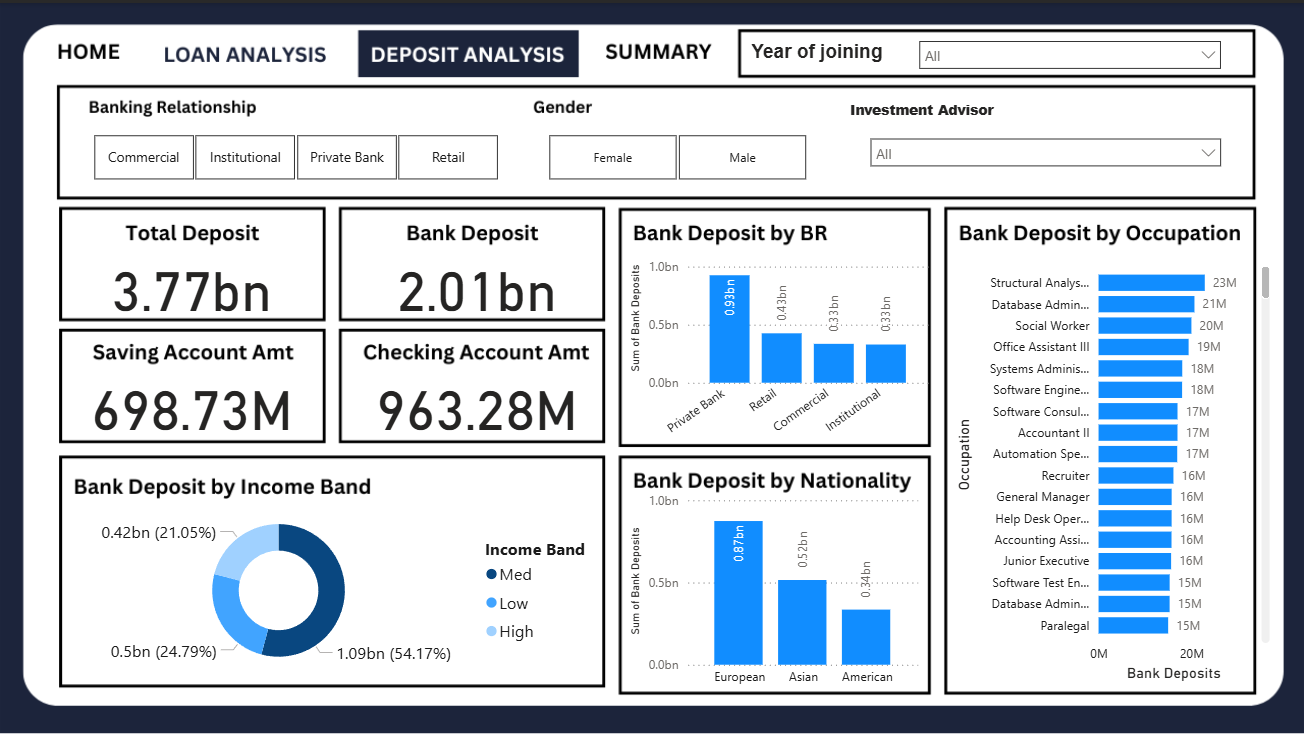

The page's visual inventory and layout, read from the dashboard file:
{"tool":"powerbi","page":{"name":"Deposit Analysis","canvas":[1280,720],"ordinal":2},"visuals":[{"type":"actionButton","box":[36.4,31.7,99.7,39.6],"z":0},{"type":"actionButton","box":[348.2,31.7,221.6,39.6],"z":1000},{"type":"actionButton","box":[587.1,31.7,123.4,39.6],"z":2000},{"type":"card","fields":{"Values":["banking_case customer.Total Deposit"]},"box":[66.3,244.2,244.2,65],"z":3000},{"type":"card","fields":{"Values":["Sum(banking_case customer.Bank Deposits)"]},"box":[348.5,244.2,239.3,65],"z":4000},{"type":"card","fields":{"Values":["Sum(banking_case customer.Saving Accounts)"]},"box":[66.3,360.7,244.2,65],"z":5000},{"type":"card","fields":{"Values":["Sum(banking_case customer.Checking Accounts)"]},"box":[348.5,360.7,239.3,65],"z":6000},{"type":"donutChart","fields":{"Category":["banking_case customer.Income Band"],"Y":["Sum(banking_case customer.Bank Deposits)"]},"box":[66.8,488.8,530.7,176.9],"z":7000},{"type":"clusteredColumnChart","fields":{"Category":["banking_case customer.BRId"],"Y":["Sum(banking_case customer.Bank Deposits)"]},"box":[613.5,231.9,303.1,211],"z":8000},{"type":"clusteredColumnChart","fields":{"Category":["banking_case customer.Nationality"],"Y":["Sum(banking_case customer.Bank Deposits)"]},"box":[613.5,471.2,293.3,208.6],"z":9000},{"type":"slicer","fields":{"Values":["banking_case customer.BRId"]},"box":[66.3,122.7,446.6,57.7],"z":10000},{"type":"slicer","fields":{"Values":["banking_case customer.GenderId"]},"box":[512.4,123.2,302.7,57.7],"z":11000},{"type":"slicer","fields":{"Values":["banking_case customer.IAId"]},"box":[843.9,123.2,364.3,57.7],"z":12000},{"type":"clusteredBarChart","fields":{"Category":["banking_case customer.Occupation"],"Y":["Sum(banking_case customer.Bank Deposits)"]},"box":[933.7,245.4,317.8,425.8],"z":13000},{"type":"actionButton","box":[136.3,27.5,196.6,40.6],"z":14000},{"type":"textbox","box":[829.5,90.8,209.8,31.9],"z":15000},{"type":"slicer","fields":{"Values":["banking_case customer.Year of Joining"]},"box":[892,27,316.6,44.2],"z":16000},{"type":"textbox","box":[732.5,31.9,159.5,35.6],"z":17000}]}

Visuals, with their boxes in screenshot pixels (x1, y1, x2, y2), scaled from the page's 1280x720 canvas onto the 1304x734 screenshot:
actionButton: bbox=[37, 32, 139, 73]
actionButton: bbox=[355, 32, 580, 73]
actionButton: bbox=[598, 32, 724, 73]
card - banking_case customer.Total Deposit: bbox=[68, 249, 316, 315]
card - Sum(banking_case customer.Bank Deposits): bbox=[355, 249, 599, 315]
card - Sum(banking_case customer.Saving Accounts): bbox=[68, 368, 316, 434]
card - Sum(banking_case customer.Checking Accounts): bbox=[355, 368, 599, 434]
donutChart - banking_case customer.Income Band x Sum(banking_case customer.Bank Deposits): bbox=[68, 498, 609, 679]
clusteredColumnChart - banking_case customer.BRId x Sum(banking_case customer.Bank Deposits): bbox=[625, 236, 934, 452]
clusteredColumnChart - banking_case customer.Nationality x Sum(banking_case customer.Bank Deposits): bbox=[625, 480, 924, 693]
slicer - banking_case customer.BRId: bbox=[68, 125, 523, 184]
slicer - banking_case customer.GenderId: bbox=[522, 126, 830, 184]
slicer - banking_case customer.IAId: bbox=[860, 126, 1231, 184]
clusteredBarChart - banking_case customer.Occupation x Sum(banking_case customer.Bank Deposits): bbox=[951, 250, 1275, 684]
actionButton: bbox=[139, 28, 339, 69]
textbox: bbox=[845, 93, 1059, 125]
slicer - banking_case customer.Year of Joining: bbox=[909, 28, 1231, 73]
textbox: bbox=[746, 33, 909, 69]
